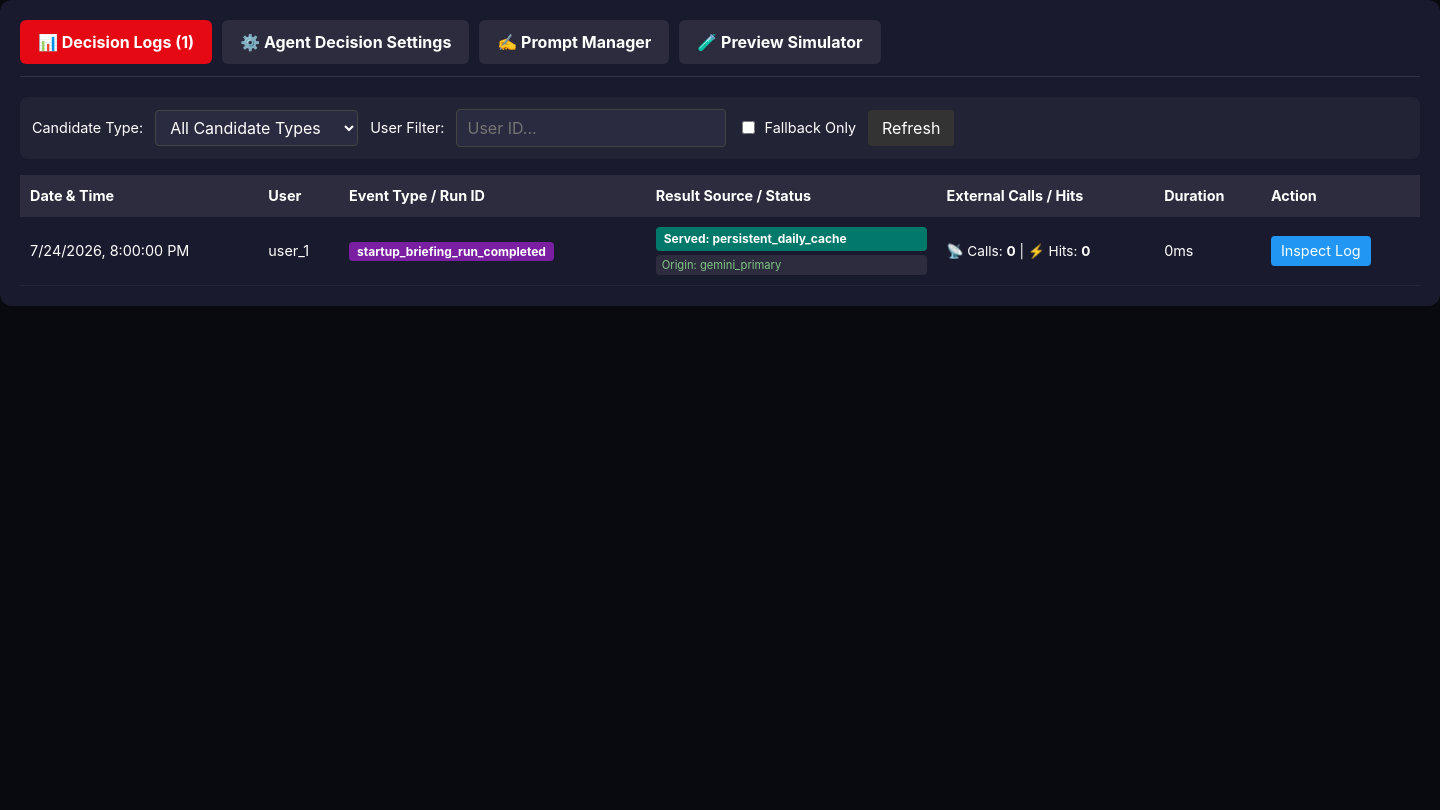
Test: AiAgentDecisionsTab Diagnostics Telemetry UI › opens log drawer and displays Daily Cache Result, Resolved Timezone, and Local Date
What coordinates should you click on to do the following:
click the button "Inspect Log"
I would click on:
 (1321, 251)
Its box is [1271, 236, 1371, 266].
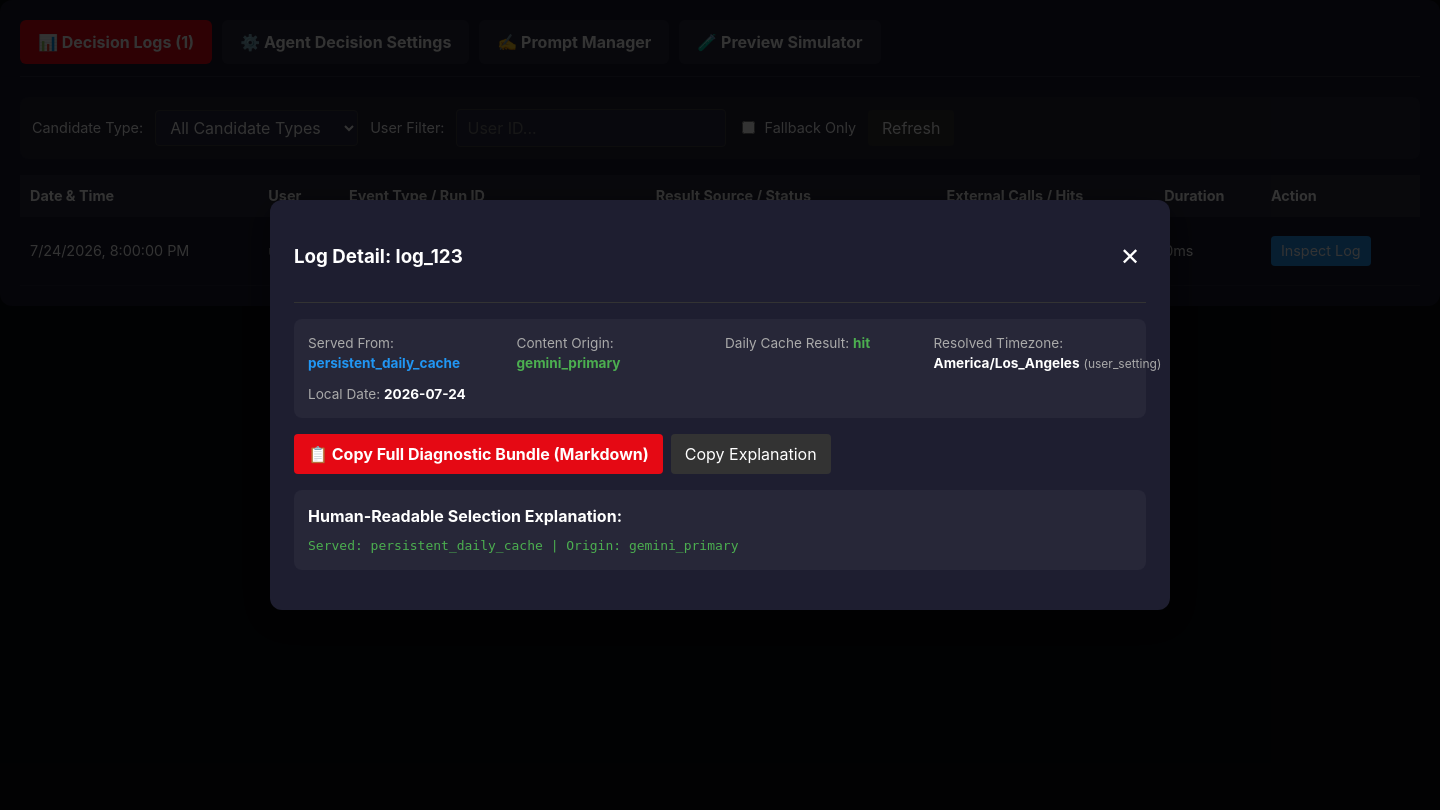
Now the text "Daily Cache Result:" is shown, box [725, 335, 853, 351]
Now the text "America/Los_Angeles" is shown, box [934, 355, 1080, 371]
Now the text "2026-07-24" is shown, box [384, 386, 466, 402]
